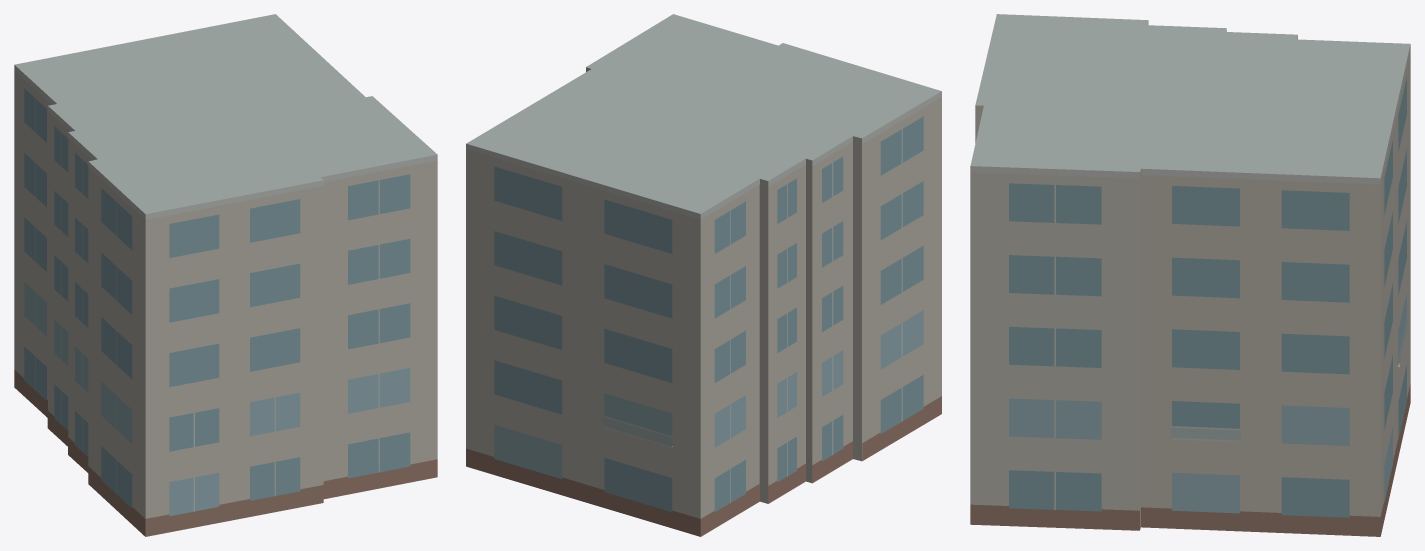
The model's file is survey-upis-32757198.glb.
3 views of the same model, side by side, from view 1: azimuth 30°, elevation 25°; view 2: azimuth 150°, elevation 25°; view 3: azimuth 270°, elevation 25° (orthographic). The views are drawn at different scales.
Visible parts, largest first — view 1: survey-upis-32757198.tmp; view 2: survey-upis-32757198.tmp; view 3: survey-upis-32757198.tmp.
Boxes of the visible parts, left/top/right/bottom form: survey-upis-32757198.tmp: left=14, top=14, right=437, bottom=536; survey-upis-32757198.tmp: left=466, top=14, right=941, bottom=536; survey-upis-32757198.tmp: left=970, top=14, right=1410, bottom=536.
Size of the model in its own units: 13.56 by 13.8 by 15.36.
